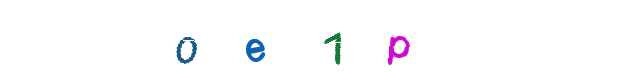0: (186, 0, 266, 80)
7: (295, 0, 375, 80)
E: (275, 0, 355, 80)
P: (357, 0, 437, 80)
